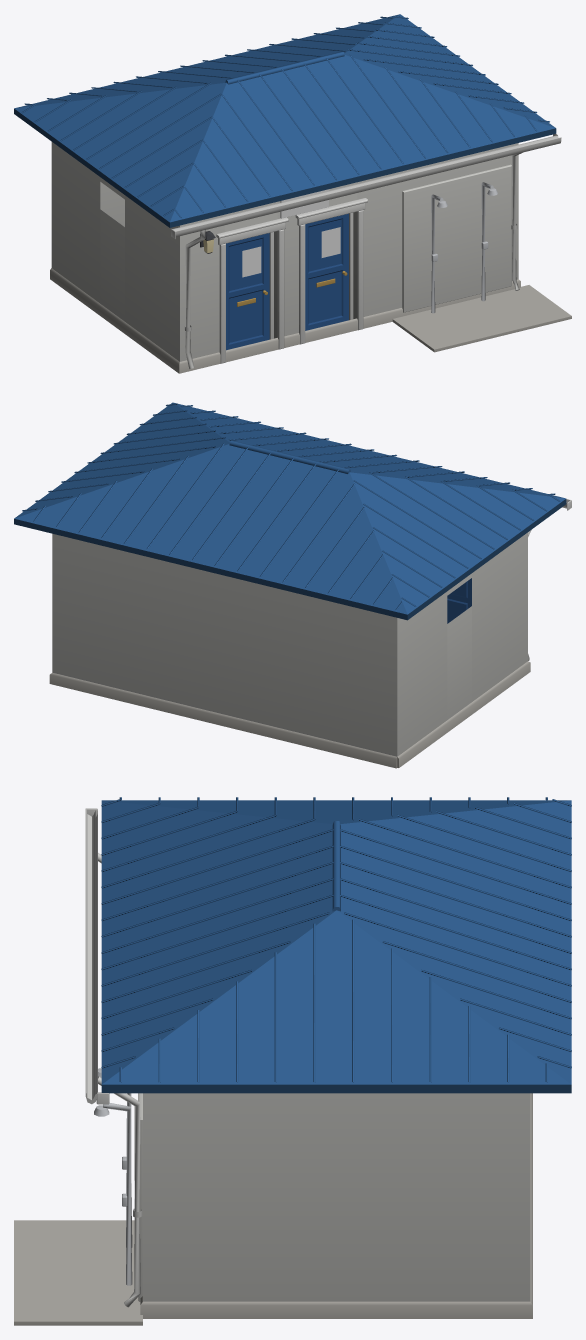
Rendered from RestroomFL.fbx.
3 views of the same model, one above another, from view 1: azimuth 30°, elevation 25°; view 2: azimuth 150°, elevation 25°; view 3: azimuth 270°, elevation 25° (orthographic). The views are drawn at different scales.
Visible parts, largest first — view 1: RestroomFL; view 2: RestroomFL; view 3: RestroomFL.
Part boxes in pixels (<box>): RestroomFL: <box>14,14,571,373</box>; RestroomFL: <box>14,402,571,768</box>; RestroomFL: <box>14,797,571,1325</box>.
Bounding box in the file's own units: 7.31 × 3.94 × 6.05.
